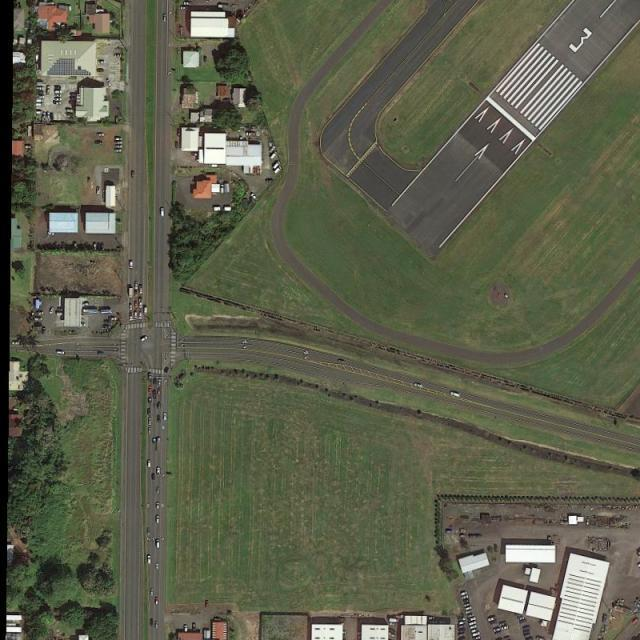vehicle: (250, 191, 259, 201), (272, 161, 281, 170), (269, 146, 277, 155), (270, 151, 278, 160), (274, 166, 282, 174), (487, 619, 496, 626), (471, 631, 480, 638), (155, 538, 161, 548), (450, 392, 460, 398), (106, 79, 113, 87), (246, 131, 255, 137), (486, 616, 495, 622), (140, 336, 148, 342), (12, 341, 21, 346), (338, 359, 345, 365), (493, 627, 500, 633), (632, 618, 638, 625), (461, 594, 468, 600), (148, 555, 152, 565), (414, 382, 422, 387), (49, 306, 54, 314), (468, 617, 476, 622), (469, 625, 477, 630), (470, 629, 478, 634), (46, 86, 50, 95), (160, 208, 164, 217), (129, 289, 133, 298), (181, 6, 190, 10), (157, 468, 161, 477), (464, 602, 470, 608), (389, 632, 395, 638), (36, 99, 43, 104), (154, 597, 159, 604), (499, 622, 506, 627), (460, 590, 467, 595), (474, 635, 481, 640), (519, 619, 526, 624), (46, 113, 50, 121), (266, 180, 274, 184), (144, 306, 148, 314), (134, 282, 138, 290), (54, 98, 62, 102), (184, 2, 192, 6), (98, 60, 106, 64), (96, 133, 104, 137), (95, 141, 103, 145), (114, 137, 122, 141), (54, 90, 62, 94), (54, 94, 62, 98), (205, 600, 209, 608), (56, 350, 64, 354), (34, 317, 42, 321), (42, 327, 46, 335), (148, 386, 152, 394), (163, 413, 167, 421), (147, 409, 151, 417), (156, 502, 160, 510), (458, 622, 466, 626), (466, 614, 474, 618), (469, 622, 477, 626), (140, 299, 143, 309), (36, 94, 43, 98), (50, 113, 54, 120), (175, 142, 179, 149), (98, 68, 105, 72), (115, 150, 122, 154), (146, 528, 150, 535), (150, 588, 154, 595), (150, 619, 154, 626), (192, 623, 196, 630), (156, 517, 160, 524), (148, 398, 152, 405), (147, 460, 151, 467), (156, 487, 160, 494), (501, 626, 508, 630), (503, 636, 510, 640), (139, 286, 142, 294), (134, 290, 138, 296), (66, 110, 74, 113), (153, 438, 157, 444), (149, 373, 152, 381), (158, 380, 162, 386), (153, 390, 156, 398), (158, 415, 161, 423), (466, 607, 472, 611), (129, 312, 132, 319), (37, 87, 44, 90), (54, 102, 61, 105), (134, 311, 137, 318), (163, 14, 166, 21), (114, 54, 121, 57), (115, 142, 122, 145), (115, 145, 122, 148), (135, 302, 138, 309), (158, 402, 161, 409), (149, 419, 152, 426), (97, 352, 104, 355), (536, 637, 543, 640), (109, 317, 116, 320), (36, 103, 42, 106), (131, 172, 134, 178), (152, 474, 155, 480), (185, 625, 187, 633), (130, 261, 132, 269), (148, 429, 151, 434), (637, 598, 640, 603), (130, 303, 132, 310), (518, 617, 525, 619), (66, 114, 72, 116), (140, 312, 142, 318), (156, 564, 158, 570), (156, 622, 158, 628)
